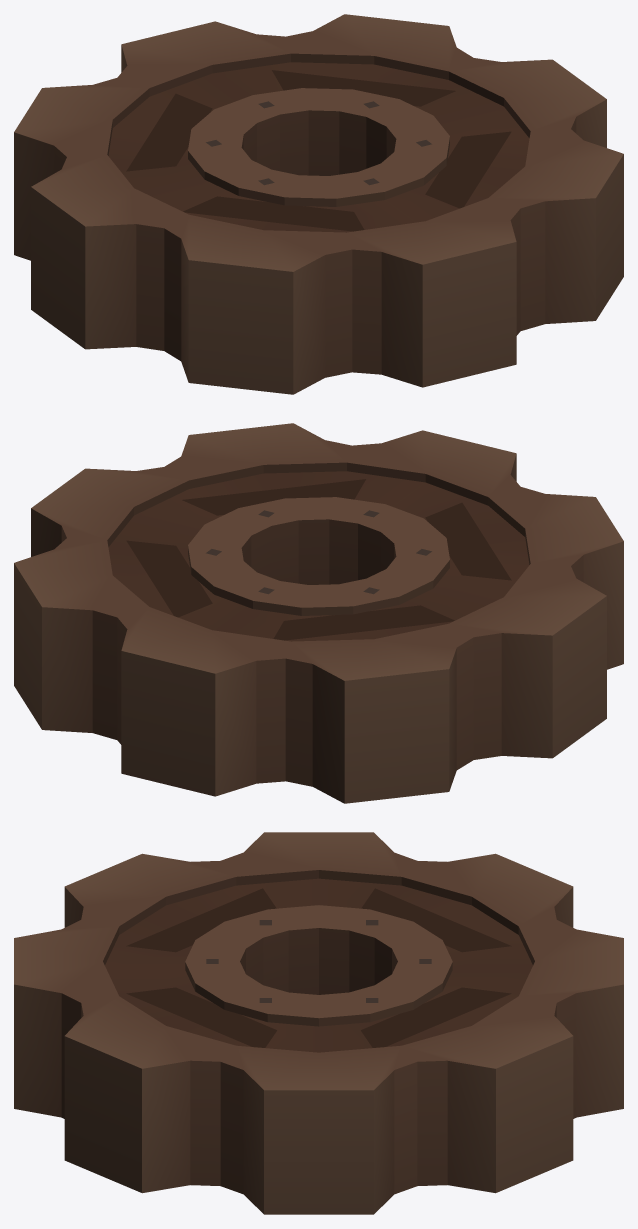
File: machine.cog.rust.glb
3 views of the same model, one above another, from view 1: azimuth 30°, elevation 25°; view 2: azimuth 150°, elevation 25°; view 3: azimuth 270°, elevation 25° (orthographic).
Visible parts, largest first — view 1: machine_cog_rust; view 2: machine_cog_rust; view 3: machine_cog_rust.
Boxes of the visible parts, x1,y1,x2,y2 form: machine_cog_rust: (14,14,623,394); machine_cog_rust: (14,423,623,803); machine_cog_rust: (14,832,623,1214).
Size of what is drawn, in the model's own units: 8.89 by 2 by 8.89.
